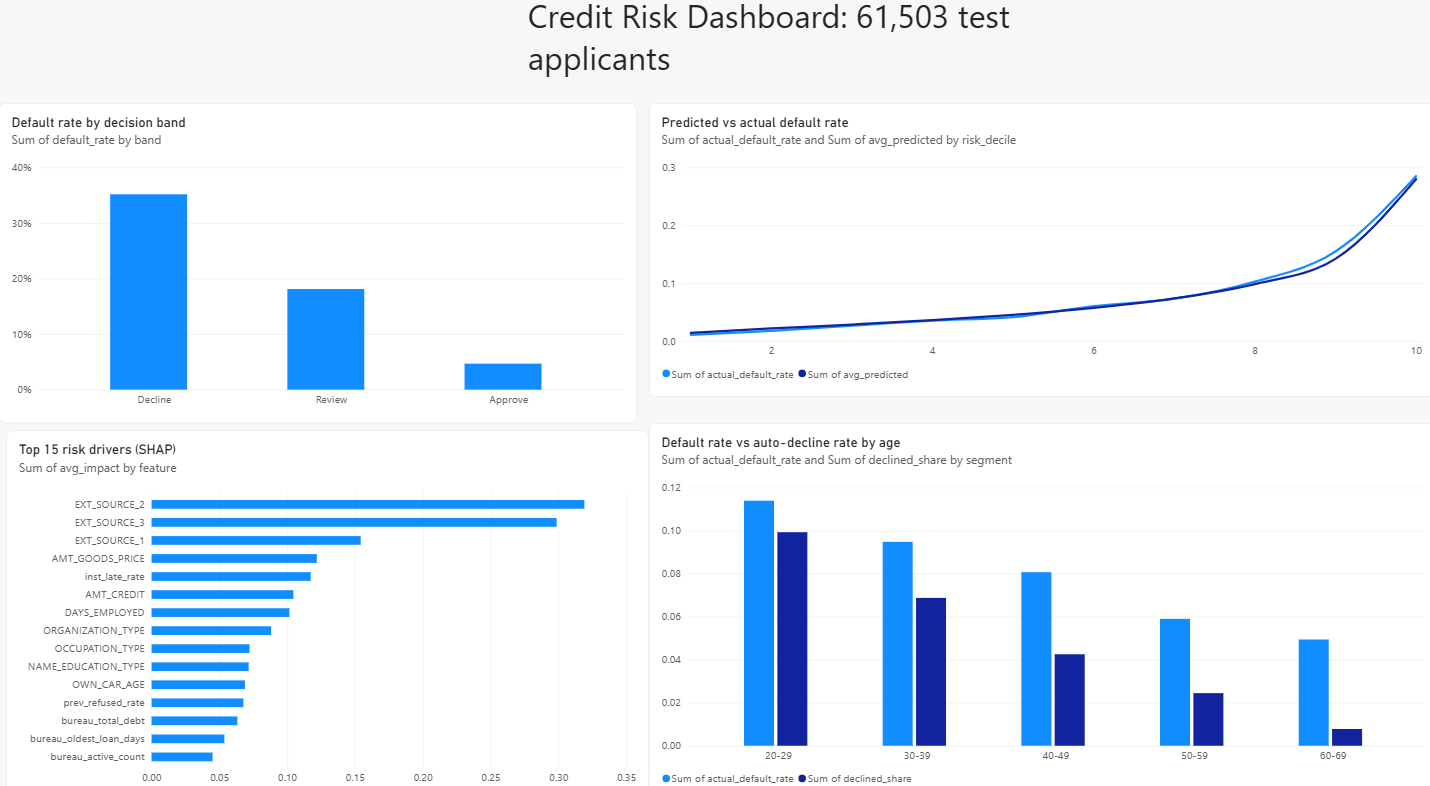

Layout of this report page (visuals, bound fields, positions):
{"tool":"powerbi","page":{"name":"Page 1","canvas":[1920,1080],"ordinal":0},"visuals":[{"type":"clusteredColumnChart","title":"Default rate by decision band","fields":{"Category":["bands.band"],"Y":["Sum(bands.default_rate)"]},"box":[0,146.1,852.1,428.1],"z":0},{"type":"lineChart","title":"\tPredicted vs actual default rate","fields":{"Category":["deciles.risk_decile"],"Y":["Sum(deciles.actual_default_rate)","Sum(deciles.avg_predicted)"]},"box":[868.6,146.1,1051.8,393.1],"z":1},{"type":"clusteredBarChart","title":"\tTop 15 risk drivers (SHAP)","fields":{"Category":["importance.feature"],"Y":["Sum(importance.avg_impact)"]},"box":[10.3,584.6,858.3,496.1],"z":2},{"type":"clusteredColumnChart","title":"Default rate vs auto-decline rate by age","fields":{"Category":["segments.segment"],"Y":["Sum(segments.actual_default_rate)","Sum(segments.declined_share)"]},"box":[868.6,574.3,1051.8,506.3],"z":3},{"type":"textbox","box":[100,100,300,300],"z":4},{"type":"textbox","box":[100,100,300,300],"z":5},{"type":"textbox","box":[100.9,0,298.5,115.3],"z":6},{"type":"textbox","box":[706,0,769.8,166.7],"z":7}]}

Visuals, with their boxes in screenshot pixels (x1, y1, x2, y2), scaled from the page's 1920x1080 canvas onto the 1430x786 screenshot:
"Default rate by decision band" clusteredColumnChart: rect(0, 106, 635, 418)
"	Predicted vs actual default rate" lineChart: rect(647, 106, 1429, 392)
"	Top 15 risk drivers (SHAP)" clusteredBarChart: rect(8, 425, 647, 785)
"Default rate vs auto-decline rate by age" clusteredColumnChart: rect(647, 418, 1429, 785)
textbox: rect(74, 73, 298, 291)
textbox: rect(74, 73, 298, 291)
textbox: rect(75, 0, 297, 84)
textbox: rect(526, 0, 1099, 121)
